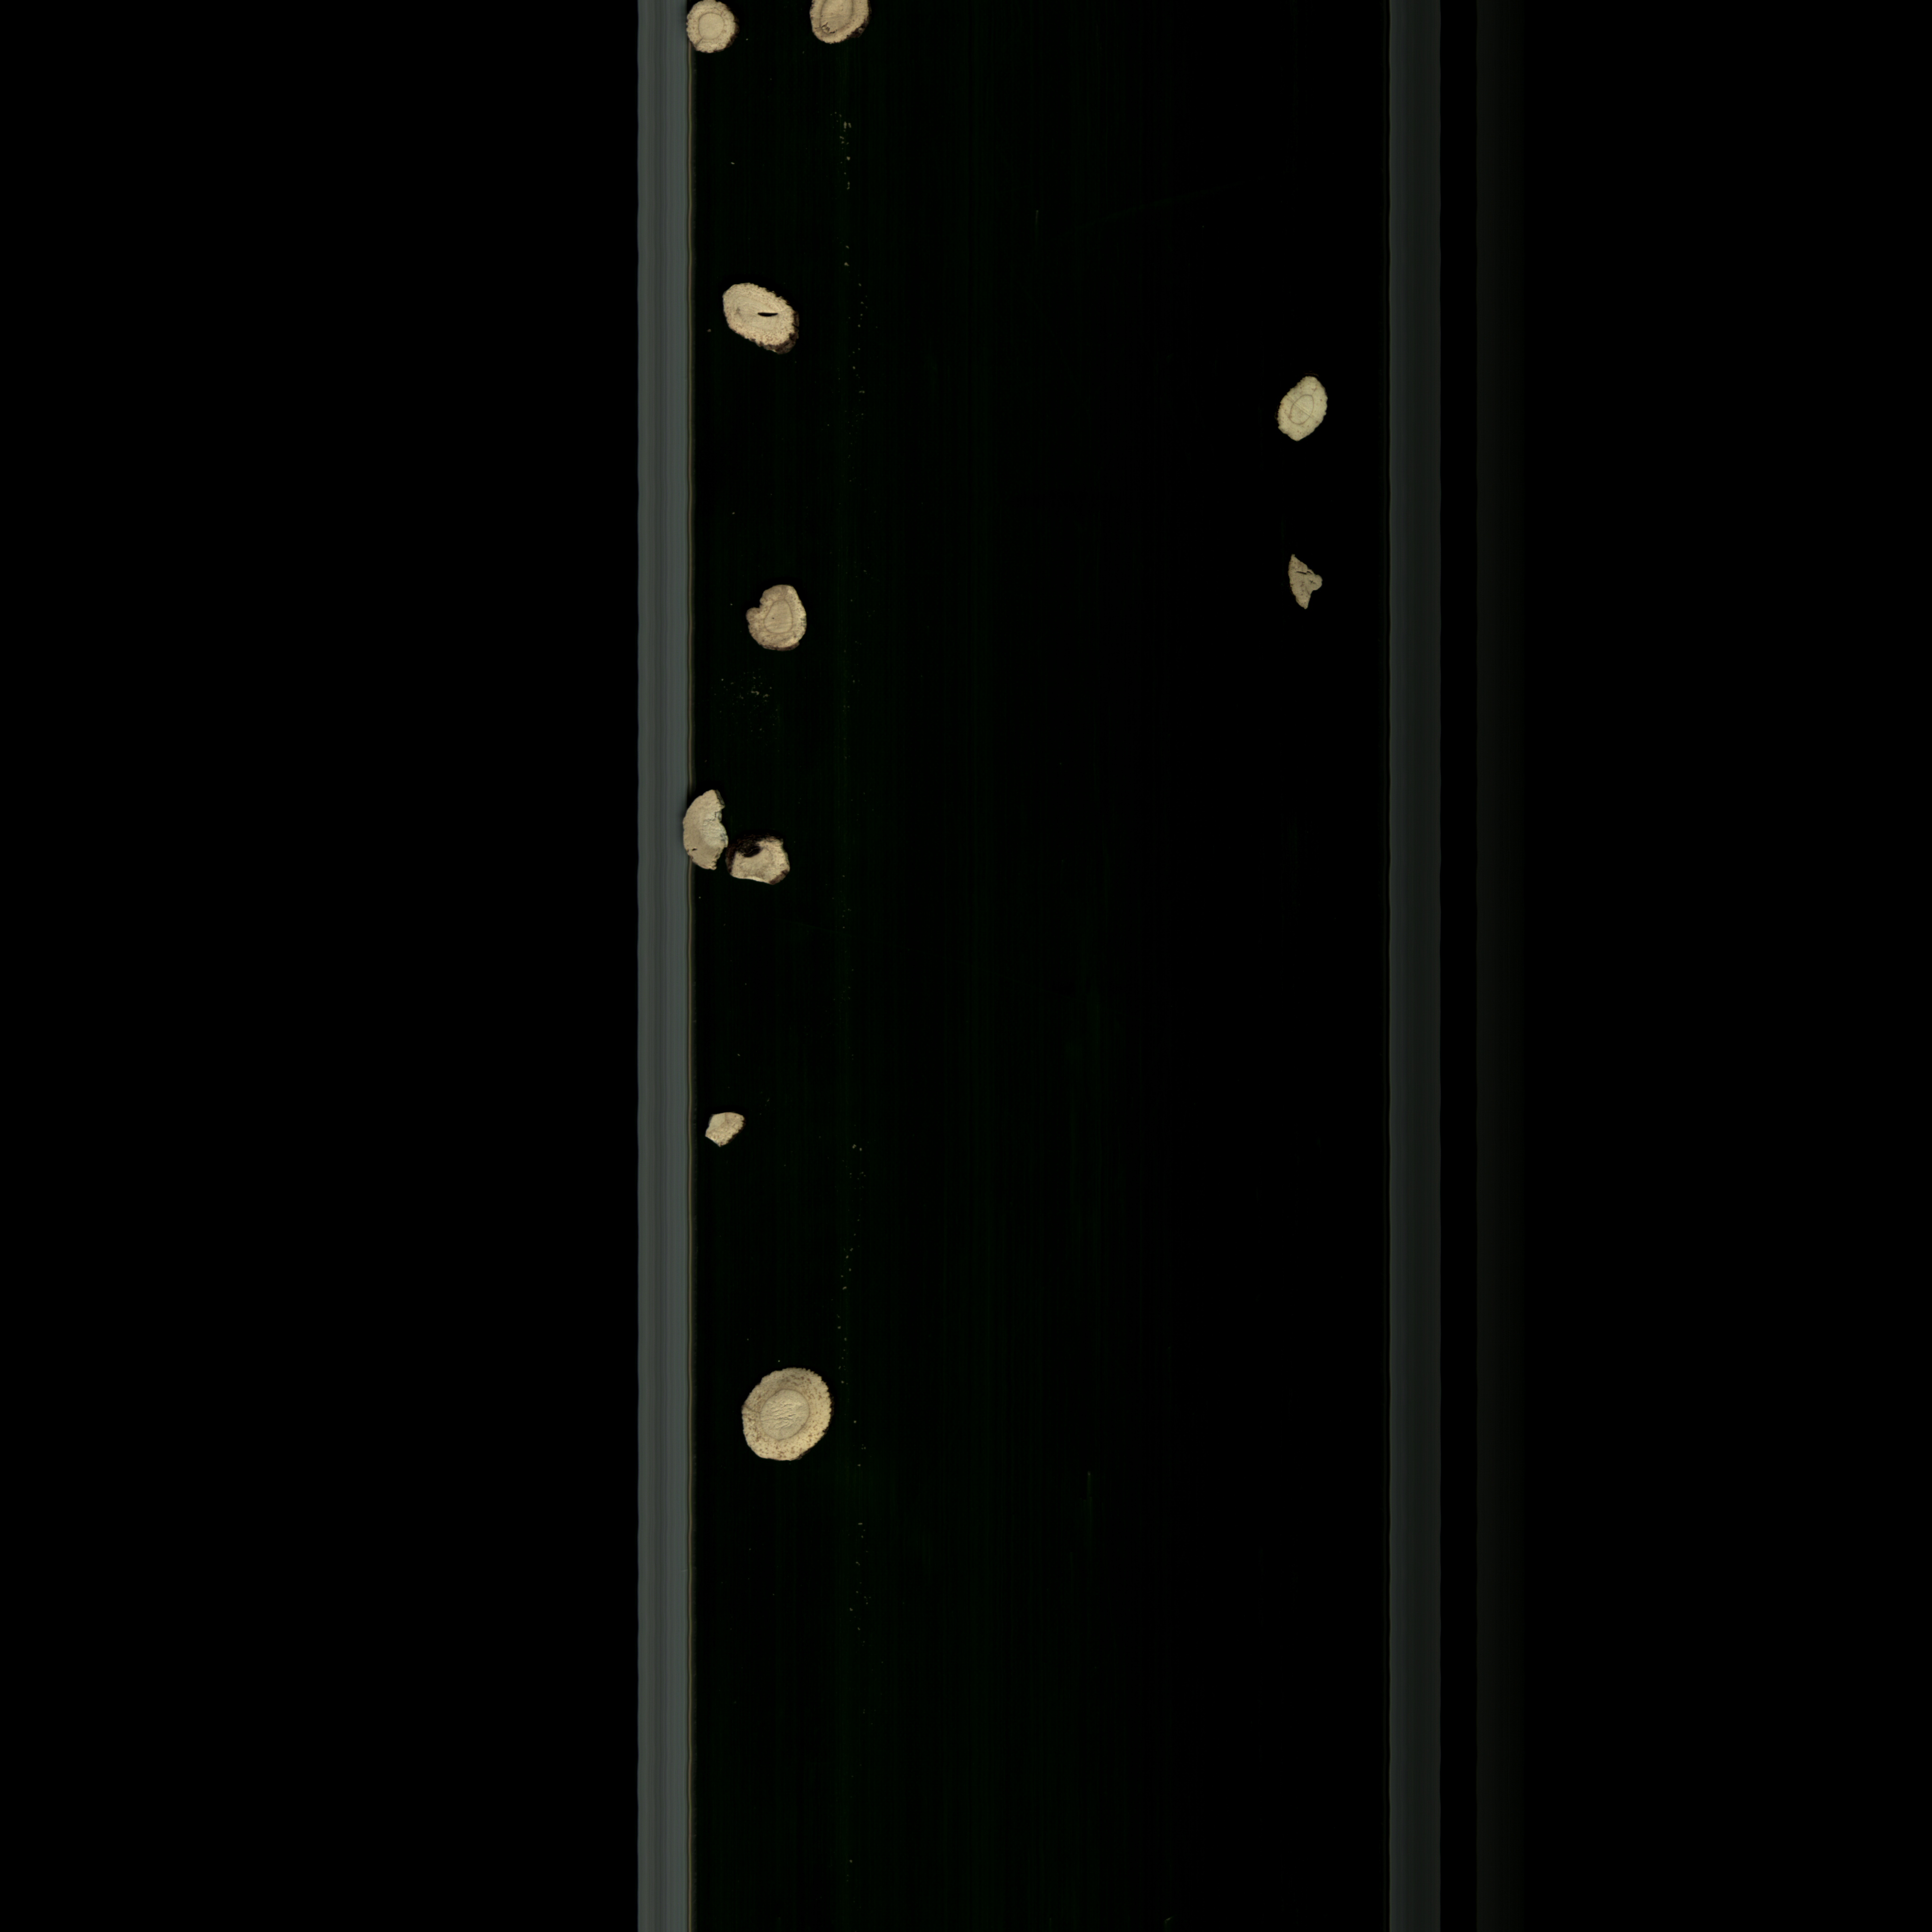debris: (665, 780, 738, 883)
distortion: (732, 579, 821, 665), (1254, 543, 1338, 628), (1265, 363, 1334, 458), (722, 833, 805, 895), (692, 1097, 754, 1164)
hole: (704, 265, 814, 379)
moldy: (778, 0, 883, 62), (683, 0, 748, 67)
